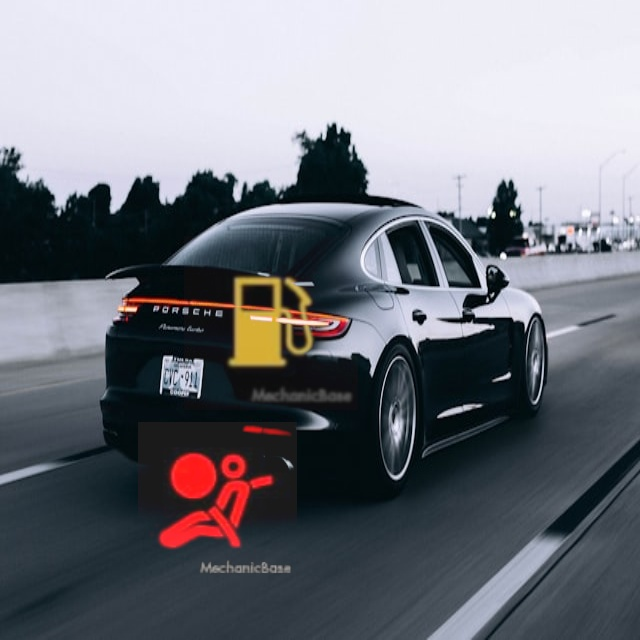symbol: (184, 236, 358, 410), (138, 422, 297, 581)
